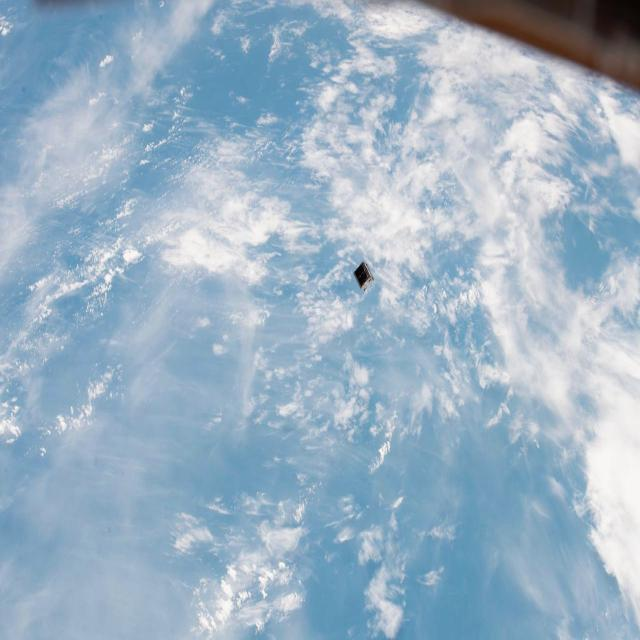medium_debris: (352, 261, 374, 292)
